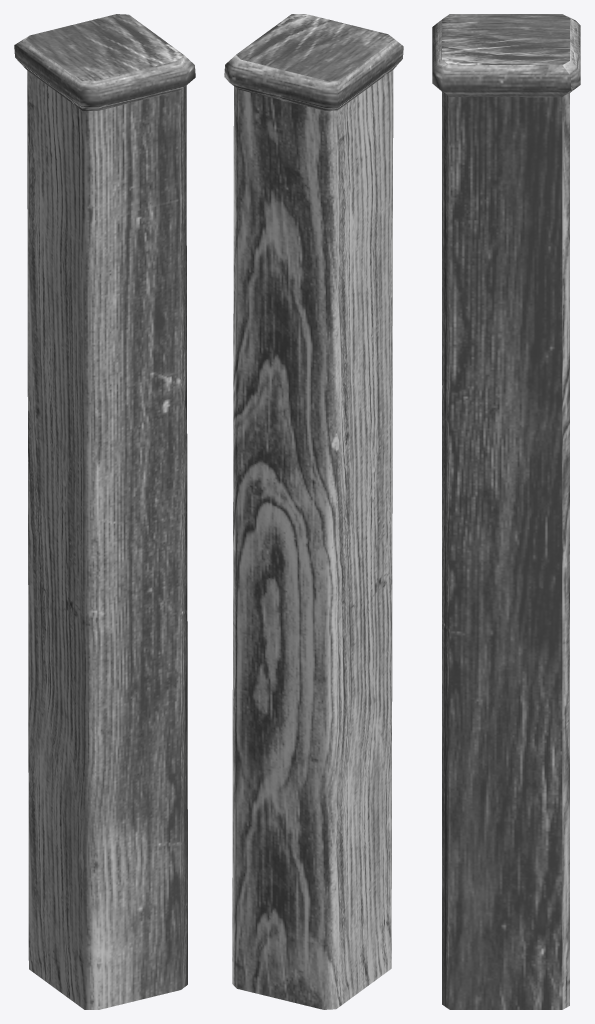
Rendered from SM_Fence_E3.fbx.
3 views of the same model, side by side, from view 1: azimuth 30°, elevation 25°; view 2: azimuth 150°, elevation 25°; view 3: azimuth 270°, elevation 25° (orthographic).
Parts seen in each view (by area): view 1: SM_Fence_Pillar_E1; view 2: SM_Fence_Pillar_E1; view 3: SM_Fence_Pillar_E1.
Boxes of the visible parts, box(x1,y1,x2,y2) form: SM_Fence_Pillar_E1: box(14, 14, 195, 1009); SM_Fence_Pillar_E1: box(224, 14, 403, 1009); SM_Fence_Pillar_E1: box(432, 14, 580, 1009).
Size of what is drawn, in the model's own units: 12.35 by 13.5 by 94.79.
2 materials, 2 textured.
